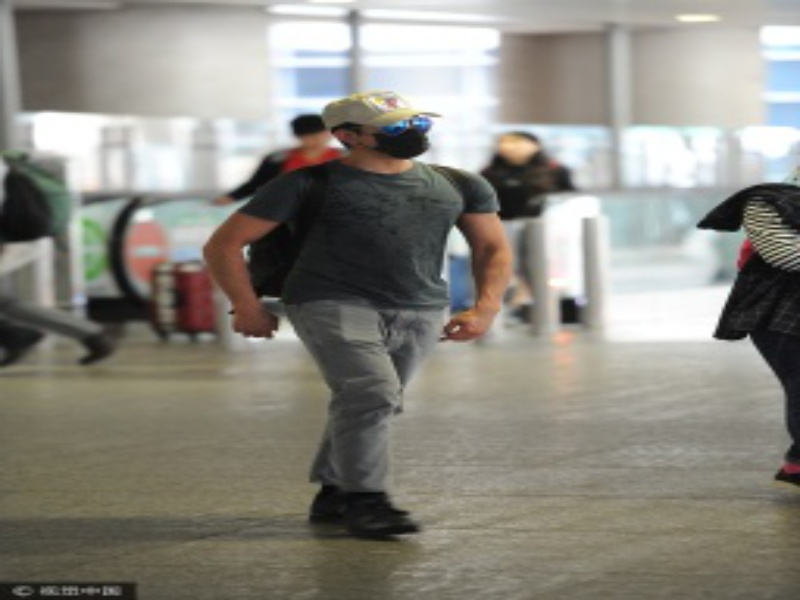ManaoArotava: (322, 83, 456, 184)
